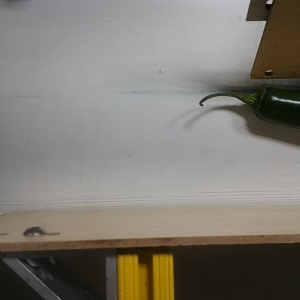Cut Point: (240, 81, 277, 120)
